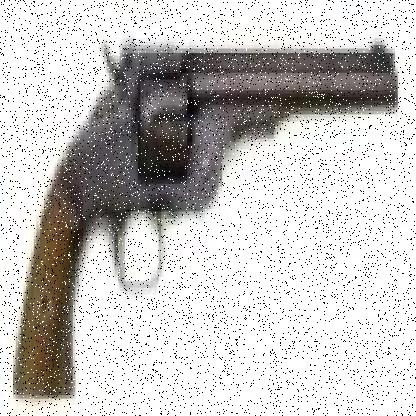pistol: (21, 38, 393, 385)
